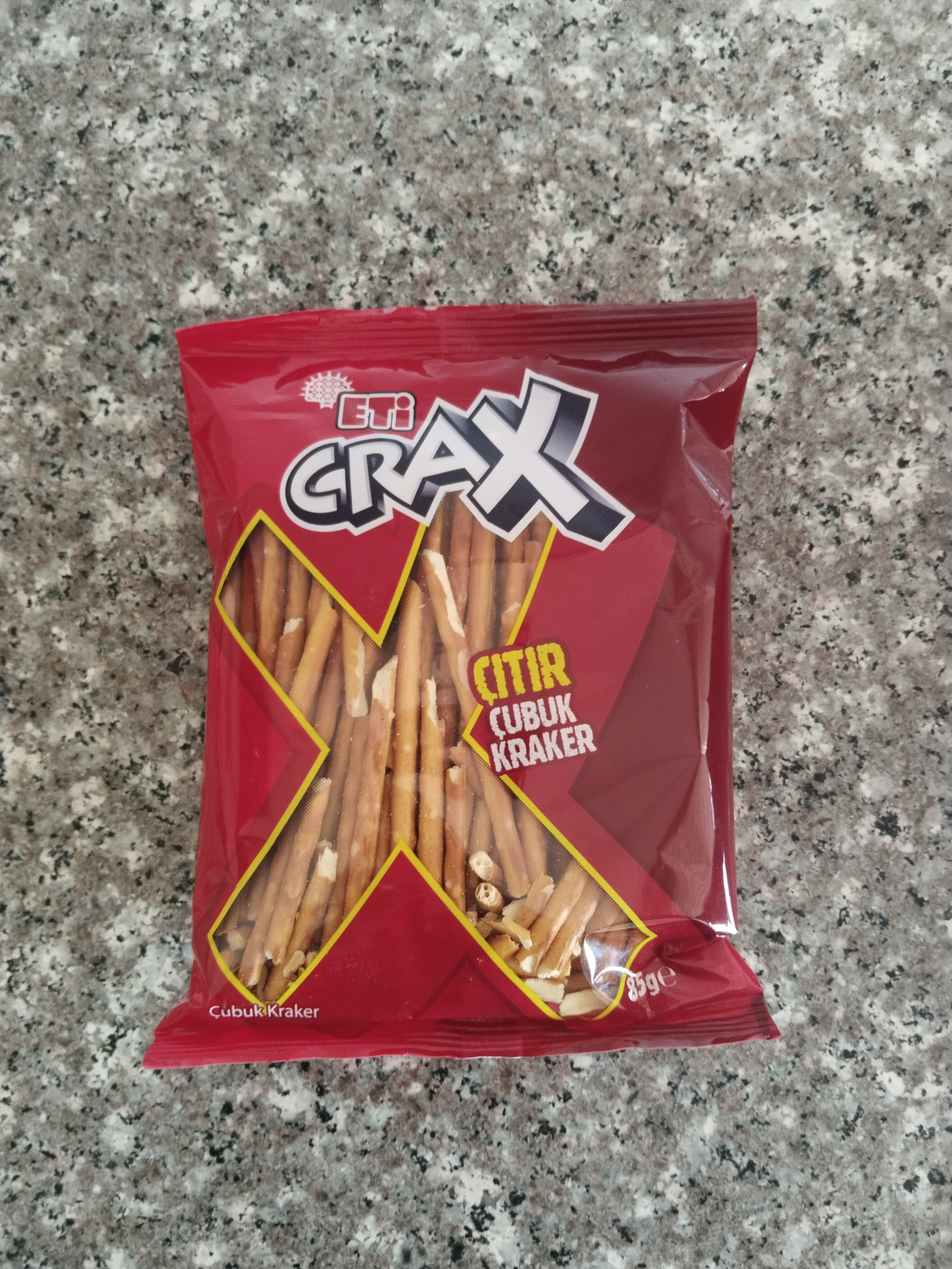eti_crax_cubuk_kraker: (158, 299, 774, 1058)
